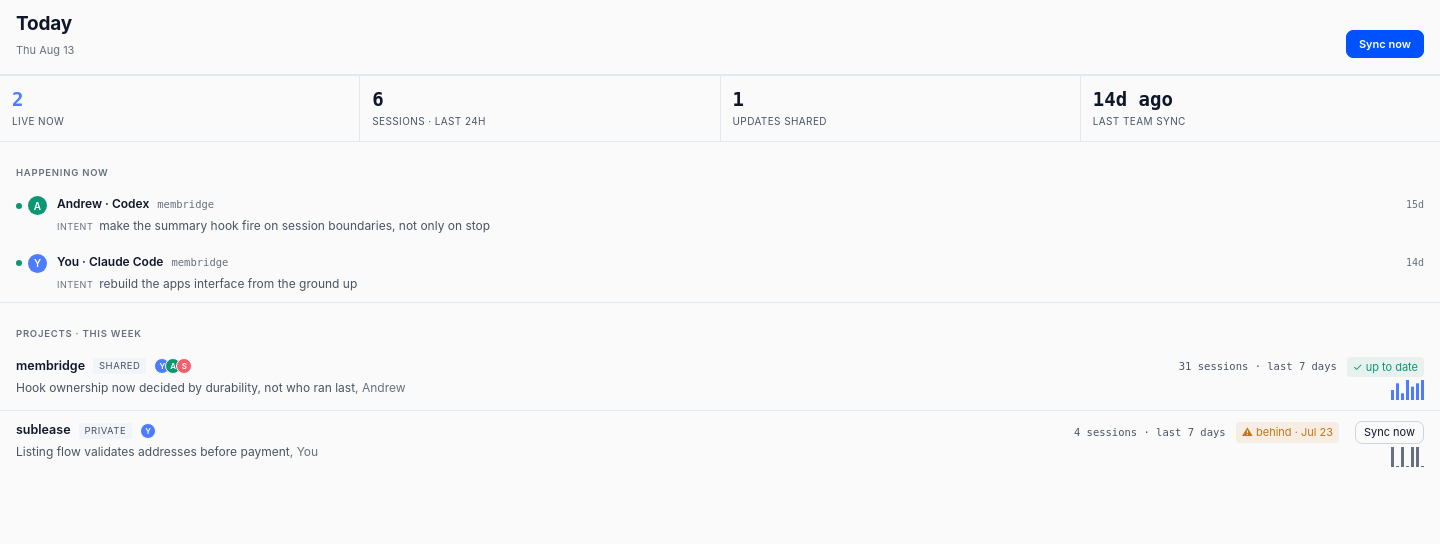
Test: TodayPage › surfaces a failed sync-all instead of looking like nothing happened
Click the button "Sync now" in the row of "Thu Aug 13" at [1385, 44], box [1346, 30, 1424, 58]
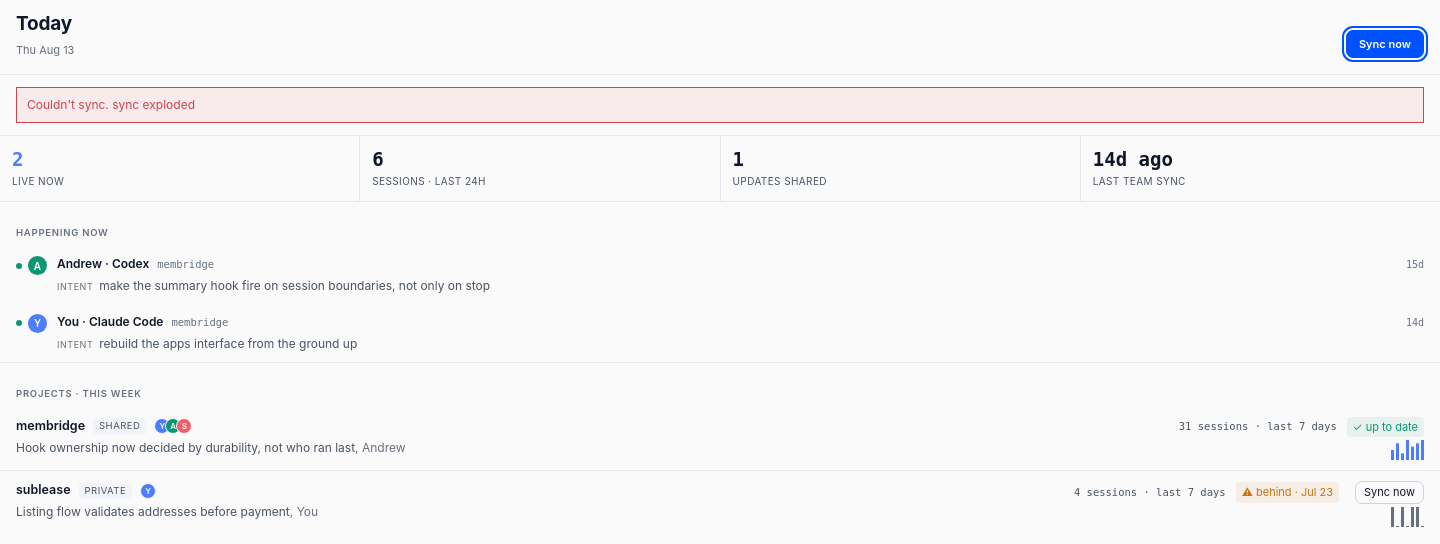
Check: the text "Couldn't sync. sync exploded" is shown, box [16, 87, 1424, 123]
